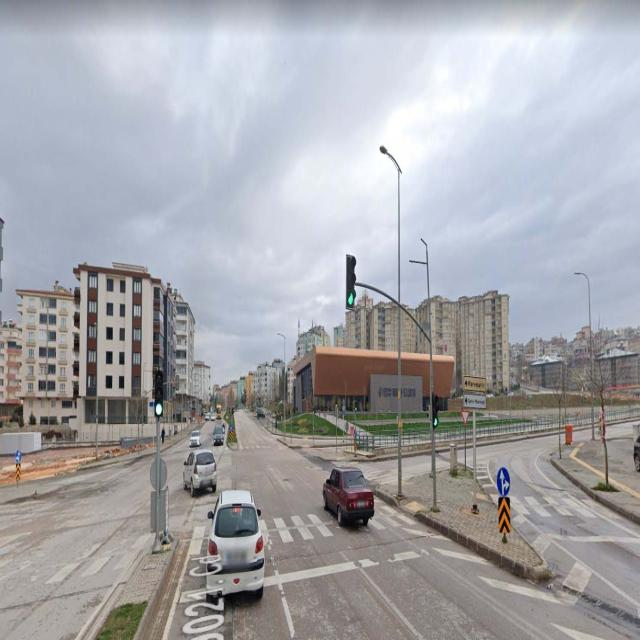ilerisag: (496, 466, 511, 494)
ilerisol: (16, 448, 21, 462)
yesil: (346, 256, 354, 307), (156, 370, 163, 416), (432, 394, 438, 428)
